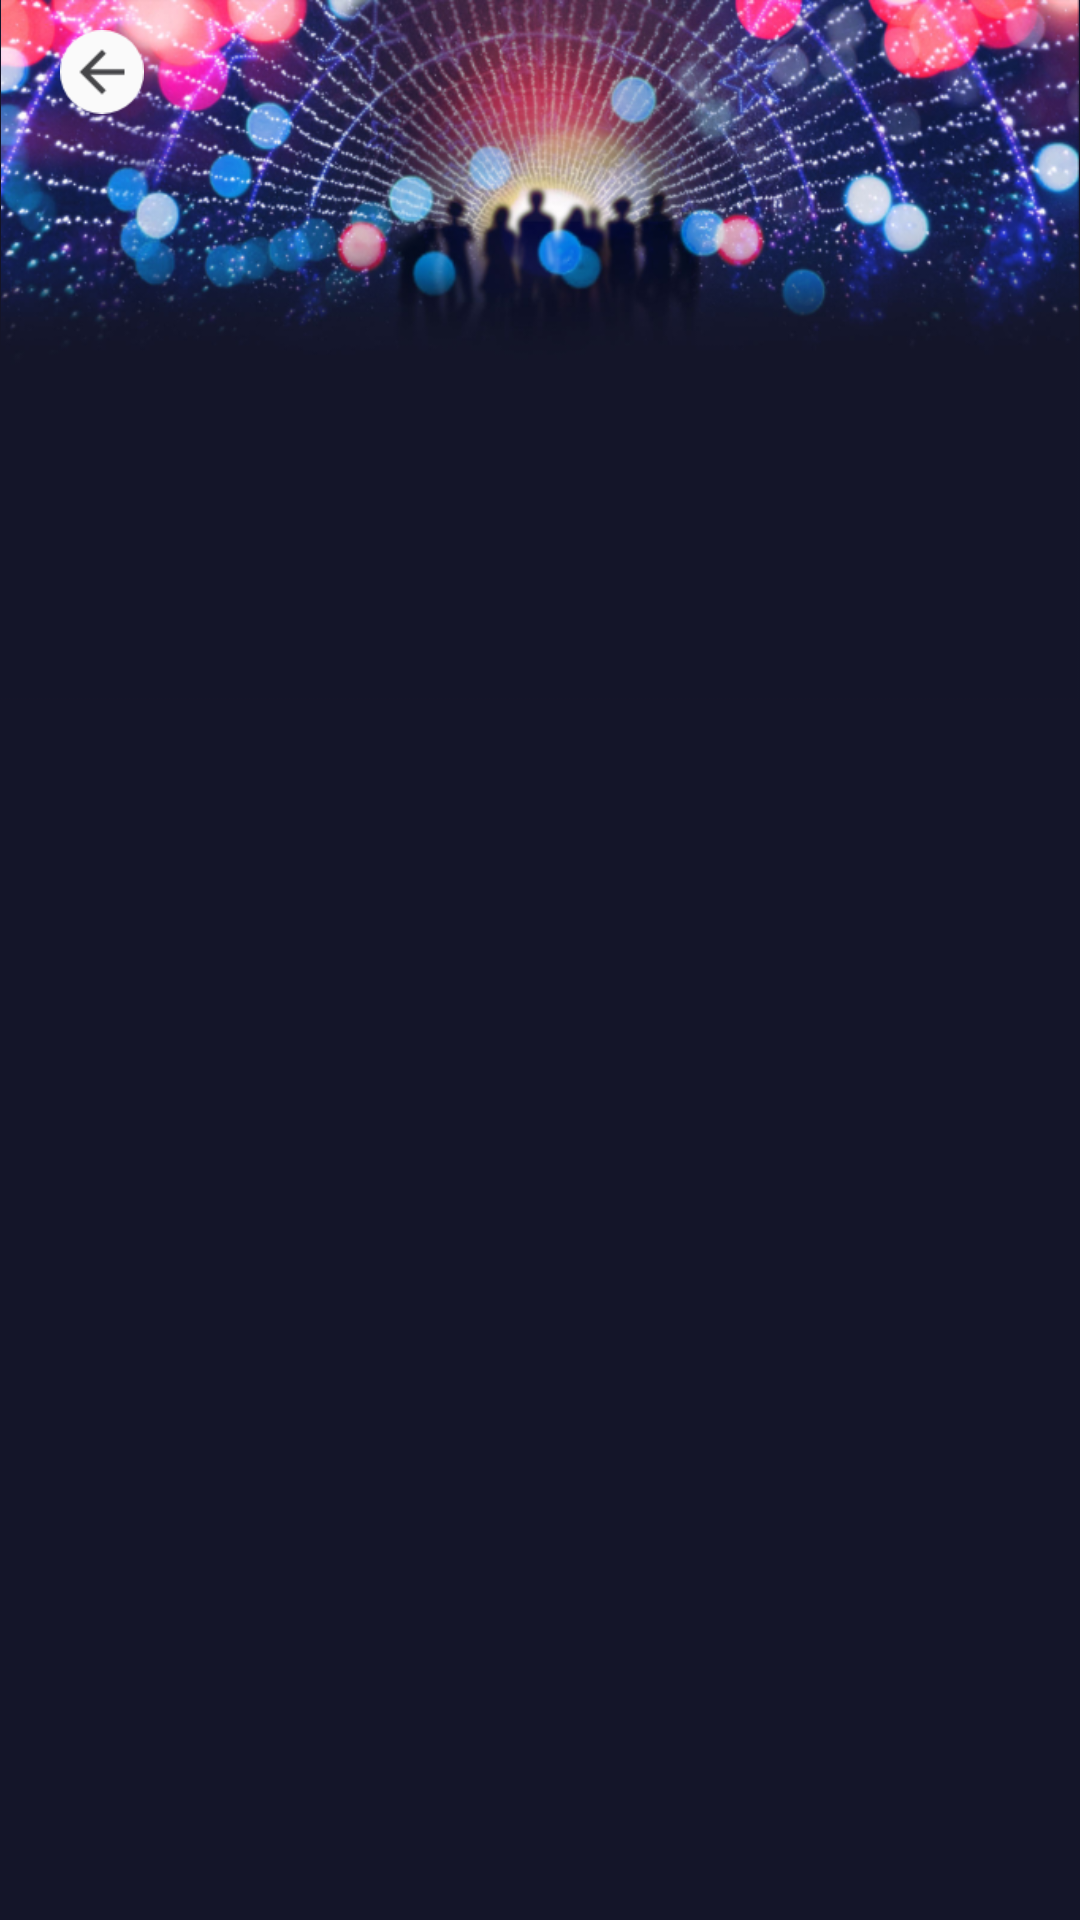

Named icons in this screenshot (1080x1920) and their centers, (x,y):
back circle: (102,72)
